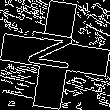N_E: (27, 31, 83, 79)
